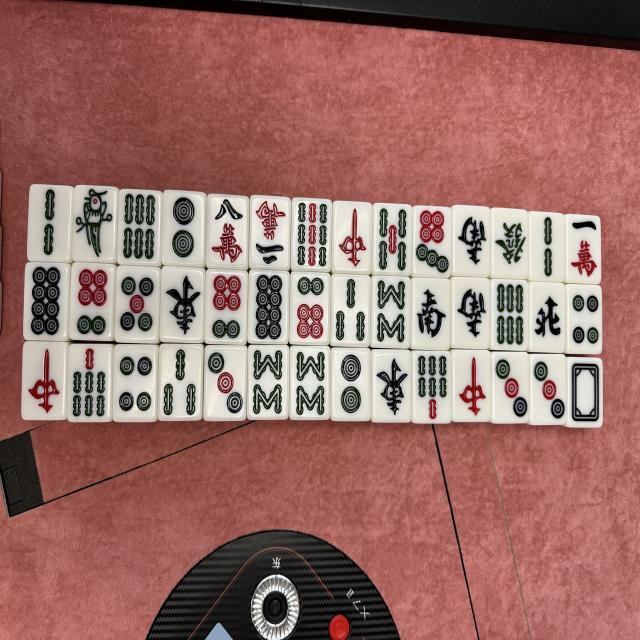hdg: (492, 208, 529, 279)
hdr: (22, 342, 64, 420), (452, 350, 492, 422), (333, 201, 372, 273)
hdw: (568, 356, 604, 428)
hwe: (373, 350, 411, 423)
hwn: (530, 282, 567, 352)
hws: (412, 278, 450, 351), (453, 206, 491, 277), (454, 277, 491, 349)
sb1: (72, 185, 116, 262)
sb2: (27, 185, 71, 261), (530, 211, 566, 282)
sb3: (158, 344, 201, 420), (332, 276, 371, 346)
sb5: (373, 204, 411, 274)
sb6: (117, 190, 161, 264), (491, 279, 528, 351)
sb7: (68, 344, 109, 422), (414, 351, 451, 424)
sb8: (290, 345, 330, 420), (249, 347, 289, 420), (372, 276, 410, 348)
sb9: (292, 198, 331, 270)
sc1: (566, 214, 602, 284)
sc2: (250, 195, 290, 270)
sc8: (207, 193, 247, 269)
sd2: (161, 190, 204, 266), (332, 350, 371, 422)
sd3: (204, 347, 246, 421), (493, 352, 530, 424), (530, 353, 566, 425)
sd4: (113, 345, 156, 422), (567, 284, 603, 354)
sd5: (114, 266, 158, 342)
sd6: (69, 262, 114, 342), (205, 270, 248, 344), (289, 272, 331, 346)
sd7: (413, 206, 452, 278)
sd8: (23, 263, 68, 341), (248, 270, 289, 344)
